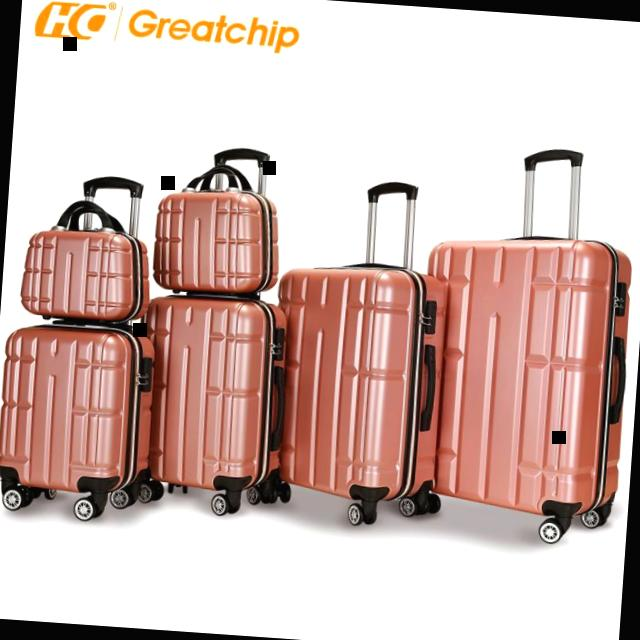luggage: (407, 222, 638, 522), (260, 252, 454, 502), (127, 288, 295, 494), (0, 313, 160, 499), (146, 158, 286, 302), (16, 192, 157, 326)
